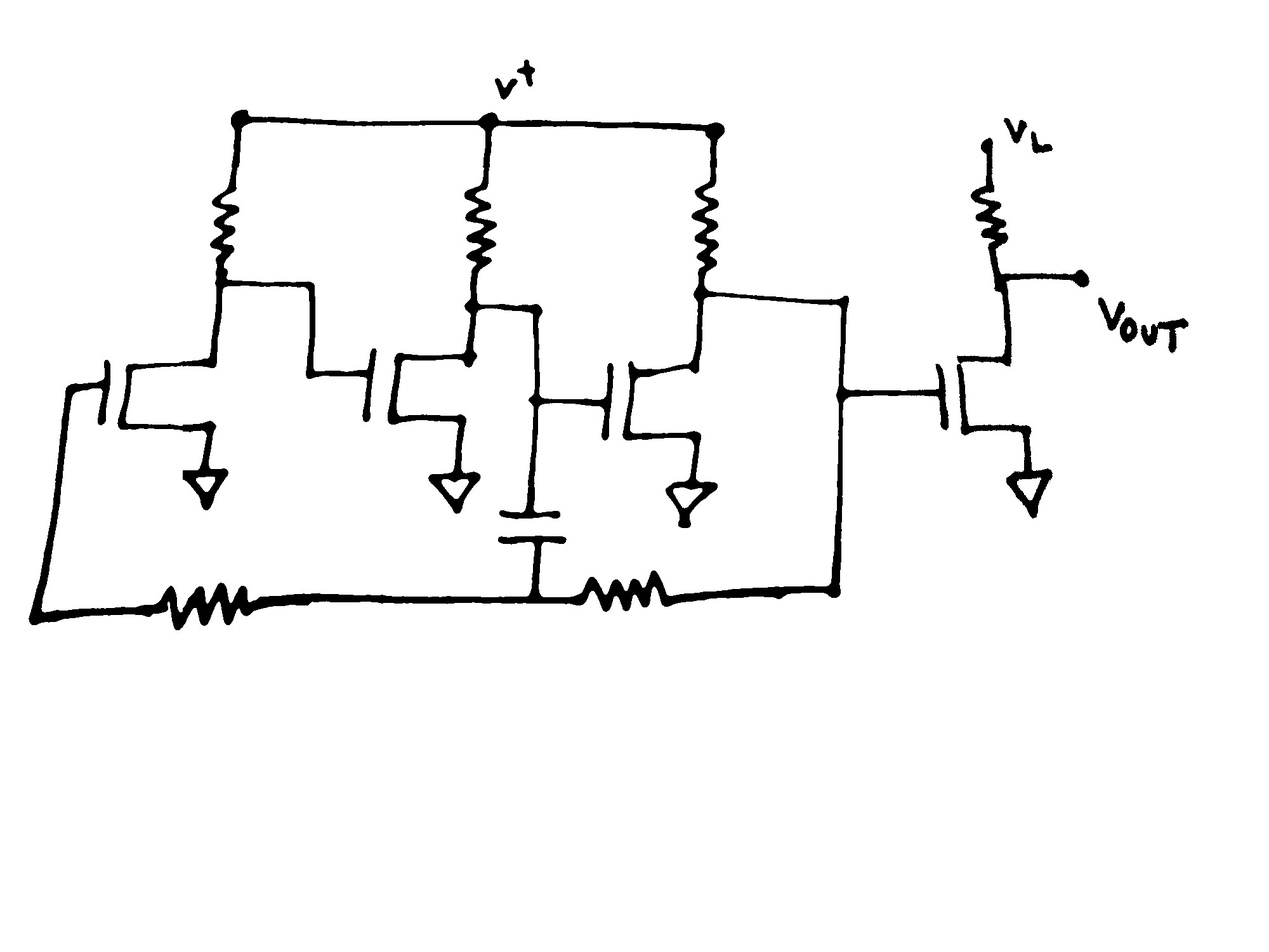capacitor.unpolarized: (494, 506, 569, 548)
gnd: (1004, 466, 1060, 520), (427, 470, 482, 514), (664, 479, 716, 522), (183, 466, 229, 505)
junction: (703, 116, 728, 140), (523, 300, 546, 323), (992, 269, 1014, 291), (211, 271, 231, 294), (480, 113, 501, 133), (832, 291, 851, 311), (527, 390, 544, 411), (63, 379, 80, 400), (825, 580, 843, 599), (692, 284, 711, 302), (462, 296, 482, 313), (27, 607, 44, 627), (301, 366, 319, 384), (229, 110, 247, 128), (834, 385, 851, 402), (303, 275, 317, 294), (527, 592, 541, 608)
resistor: (148, 579, 251, 635), (576, 569, 672, 617), (459, 183, 501, 270), (690, 179, 726, 274), (207, 185, 244, 263), (970, 178, 1008, 252)
terminal: (1070, 267, 1094, 288), (977, 135, 998, 155)
text: (1096, 296, 1190, 358), (491, 55, 543, 105), (1007, 115, 1055, 154)
transistor.fet: (93, 347, 225, 439), (595, 350, 714, 447), (359, 345, 480, 432), (930, 351, 1035, 439)
